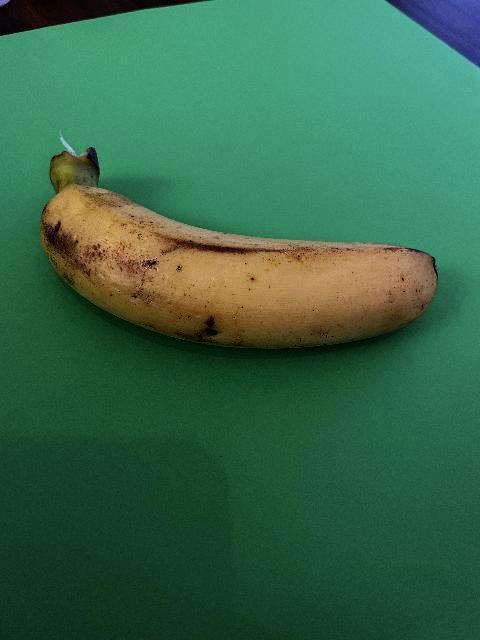banana: (38, 144, 440, 356)
